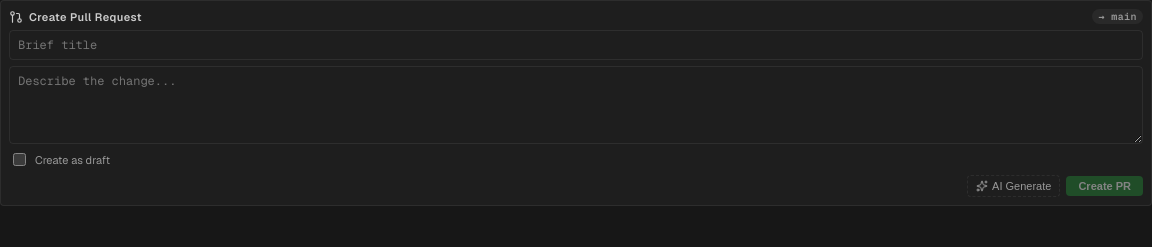
Test: ReviewComposer › AI generate shows error inline on failure
Click the button with test id "review-ai-btn": [1014, 186] box [967,175,1060,197]
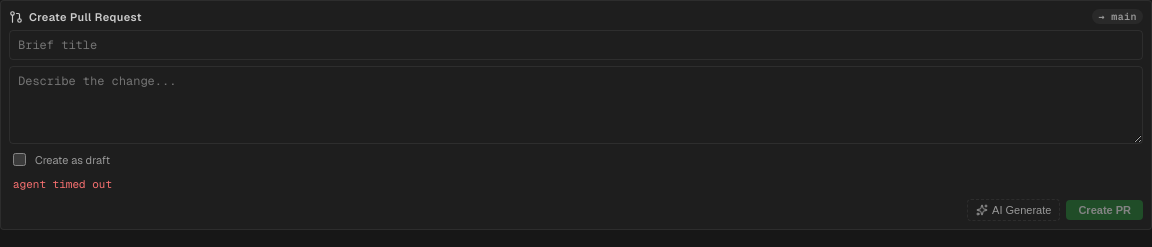
Expected: the text with test id "review-ai-error" reads "agent timed out", [13,177,112,191]
